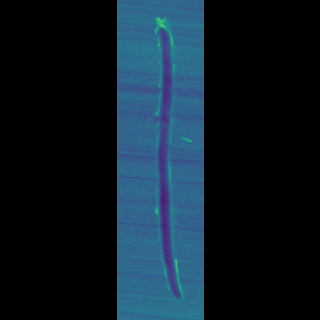Loch: (156, 13, 166, 303), (164, 131, 168, 144)
